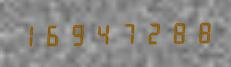eight: (185, 18, 208, 45), (161, 19, 184, 45)
four: (89, 20, 112, 47)
nine: (65, 20, 88, 47)
one: (17, 21, 40, 48)
seven: (113, 20, 136, 46)
six: (41, 21, 64, 47)
two: (137, 19, 160, 46)
